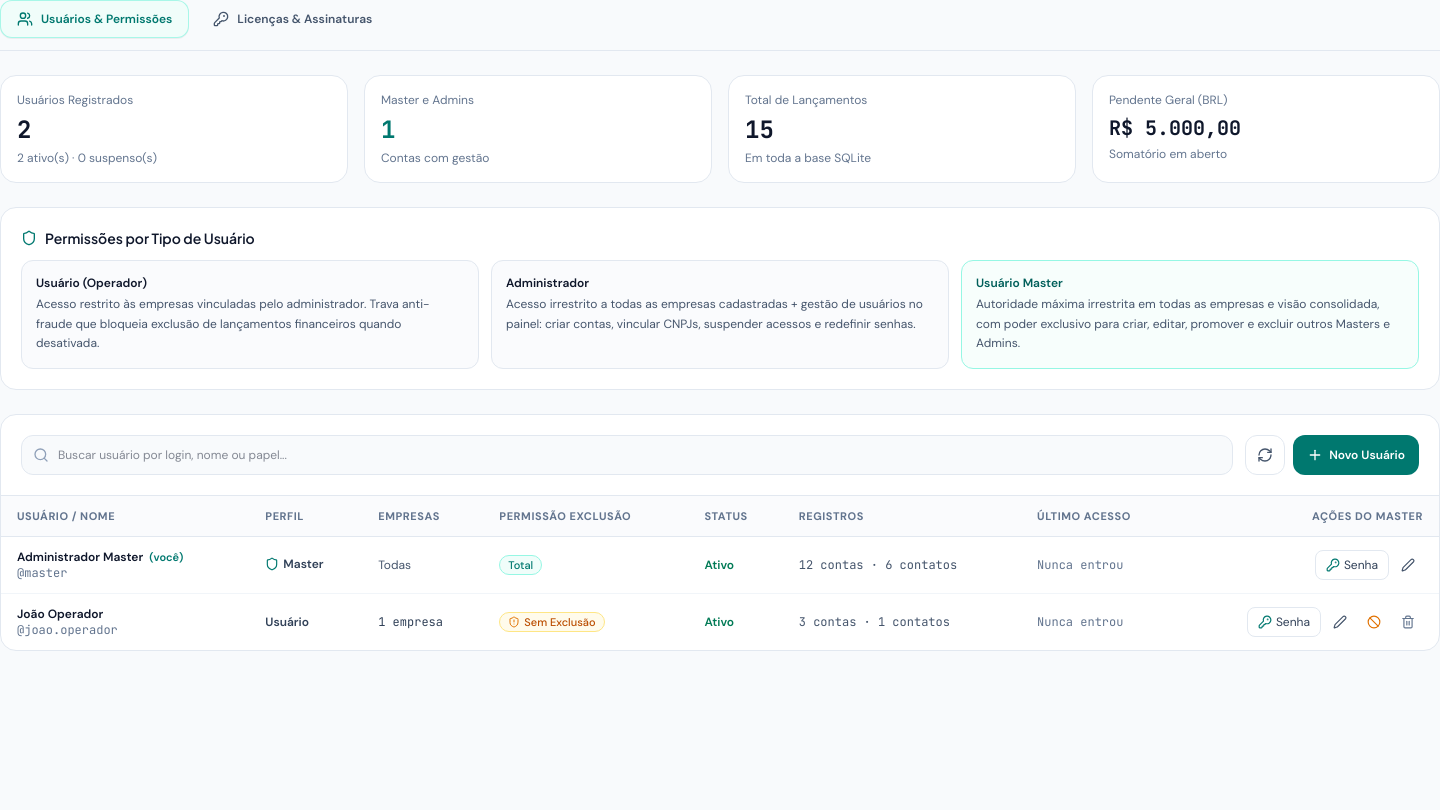
Test: AdminView — Fase 9.3 (Permissões por Empresa, Trava de Exclusão e Modais) › 4. Deve exibir erro de senha curta diretamente DENTRO do modal de redefinição de senha
The width and height of the screenshot is (1440, 810).
Expected: the text "João Operador" is shown, top-left (17, 606), bottom-right (103, 622)
# Clicar no botão 'Senha' do João Operador
Click the button "Senha" in the row of "Administrador Master" at coordinates (1352, 565), box top-left (1315, 550), bottom-right (1389, 580)
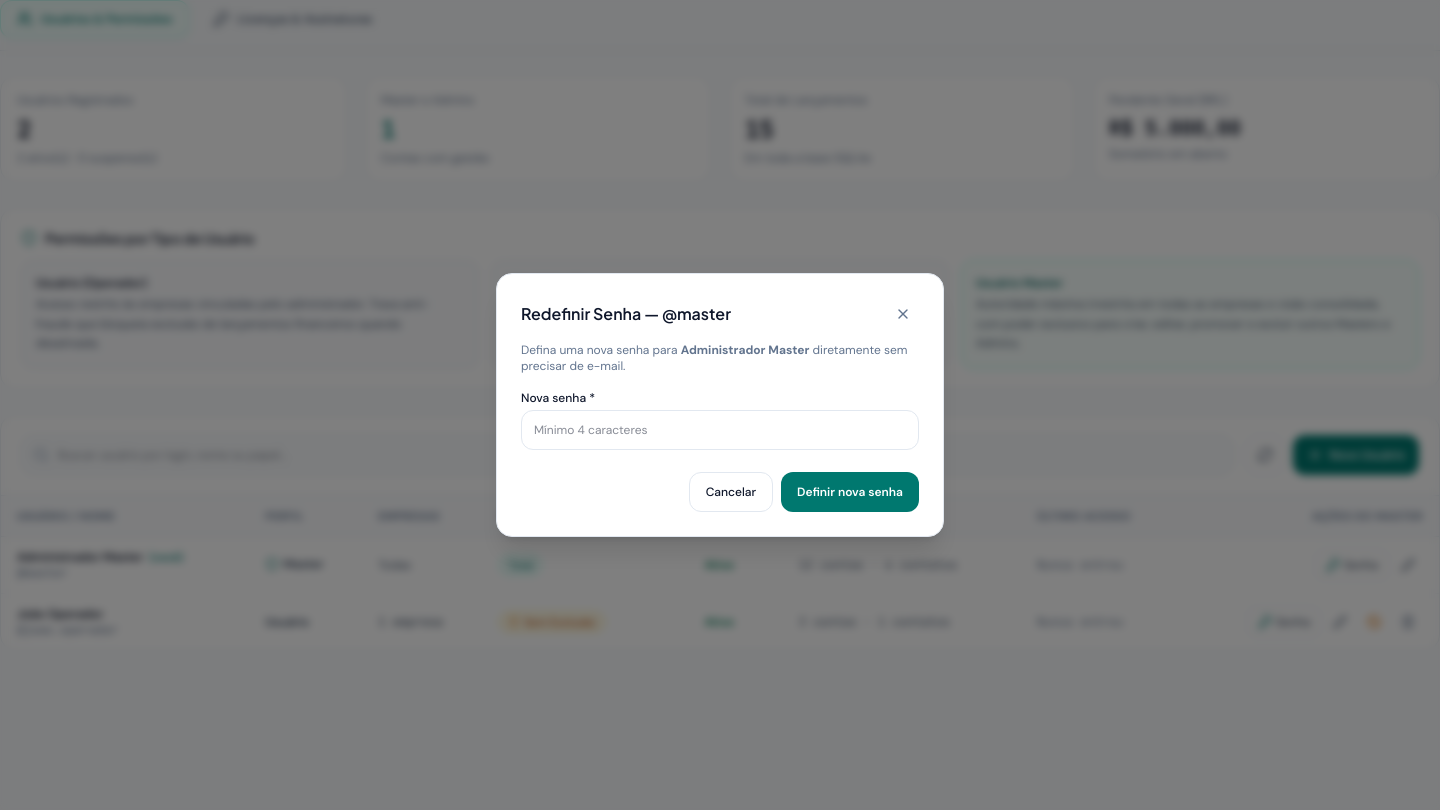
Expected: the heading "Redefinir Senha — @master" is shown, top-left (521, 302), bottom-right (731, 326)
# Digitar senha com menos de 4 caracteres
Type "123" into the password field with placeholder "Mínimo 4 caracteres" at coordinates (720, 430), box top-left (521, 410), bottom-right (919, 450)
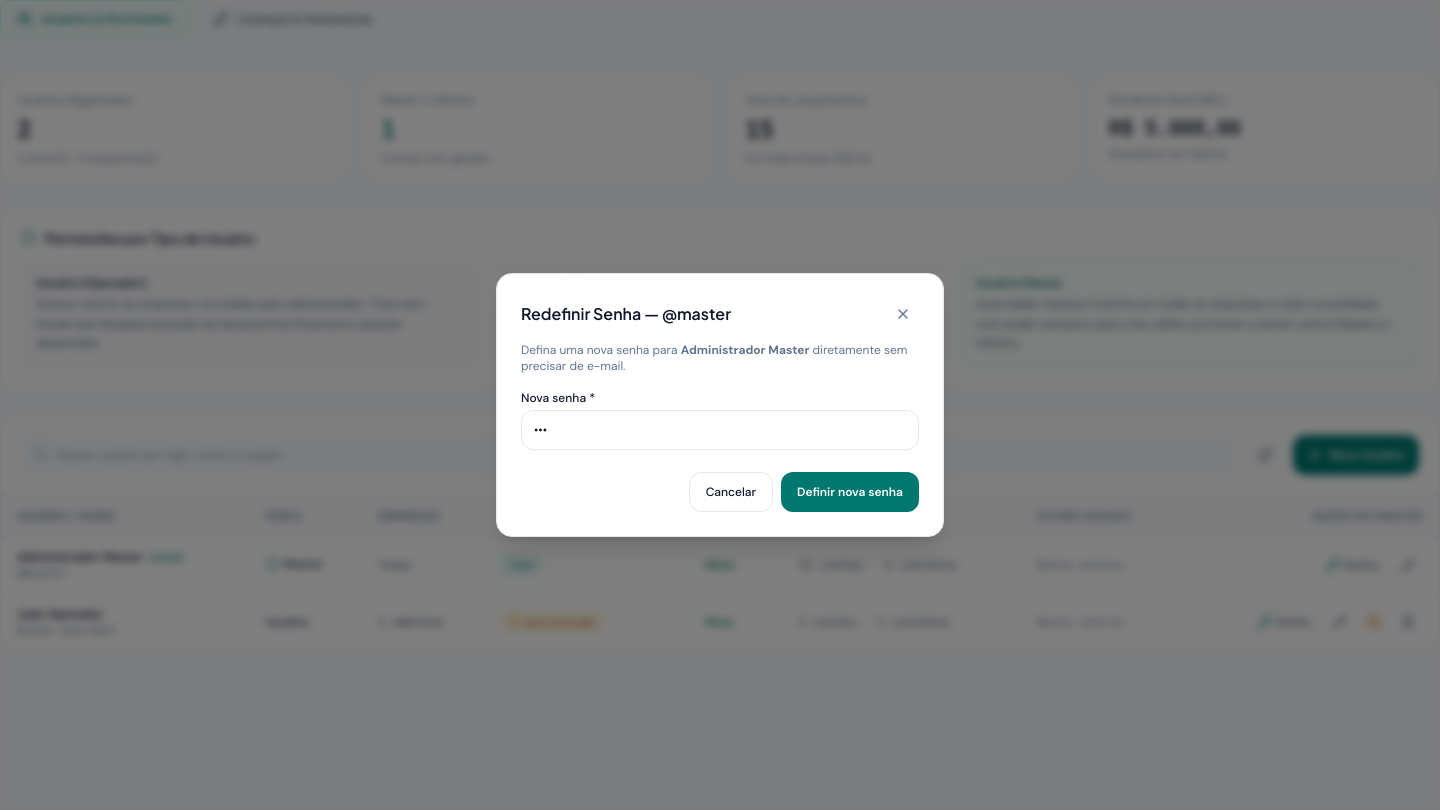
# Clicar em 'Definir nova senha'
Click the button "Definir nova senha" at coordinates (850, 492), box top-left (781, 472), bottom-right (919, 512)
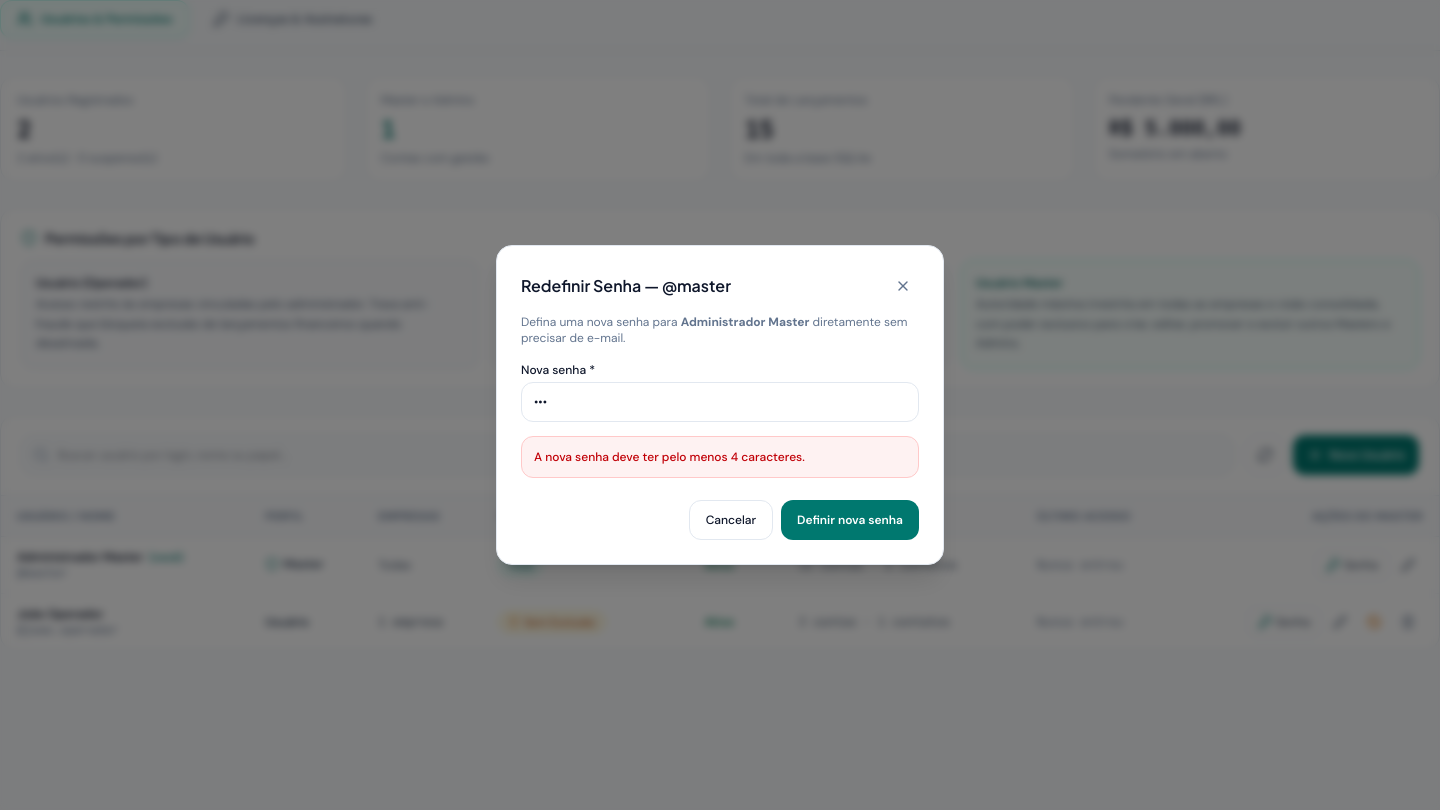
Expected: the text "A nova senha deve ter pelo menos 4 caracteres." is shown, top-left (521, 436), bottom-right (919, 478)
